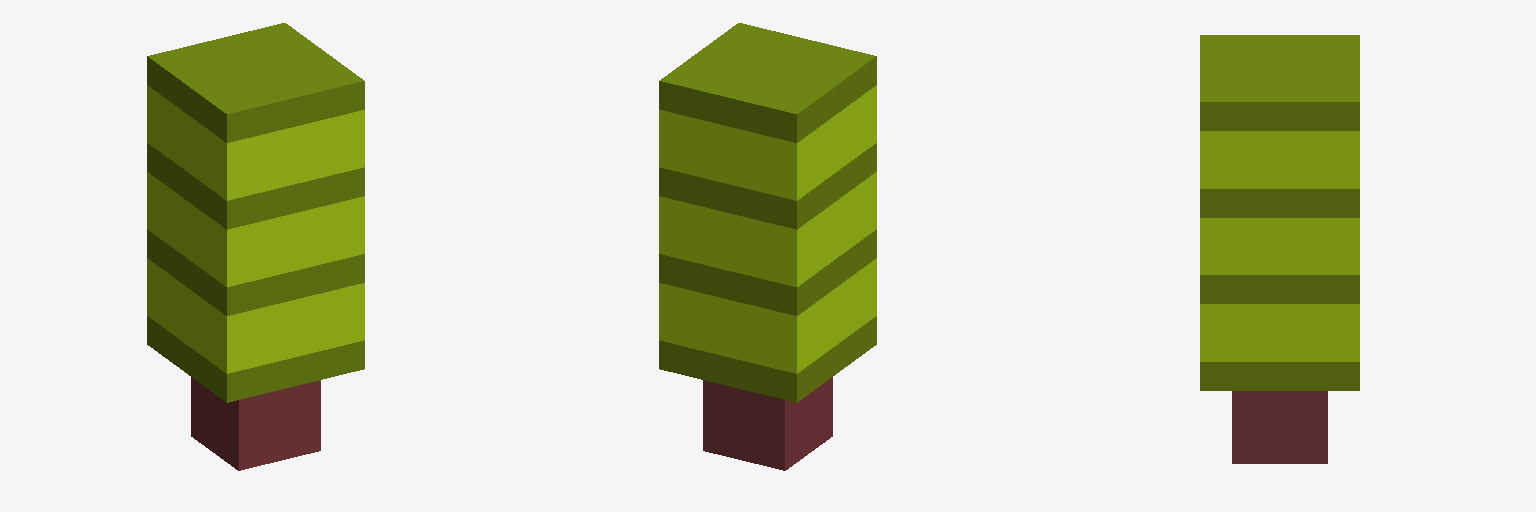
3 views of the same model, side by side, from view 1: azimuth 30°, elevation 25°; view 2: azimuth 150°, elevation 25°; view 3: azimuth 270°, elevation 25° (orthographic).
Parts seen in each view (by area): view 1: 3BlockTree; view 2: 3BlockTree; view 3: 3BlockTree.
Part boxes in pixels (x1,y1,x2,y2): 3BlockTree: (147, 23, 364, 470); 3BlockTree: (659, 23, 876, 470); 3BlockTree: (1200, 35, 1359, 463).
Size of the model in its own units: 5 by 13 by 5.
Materials: 1 (1 with a texture image).